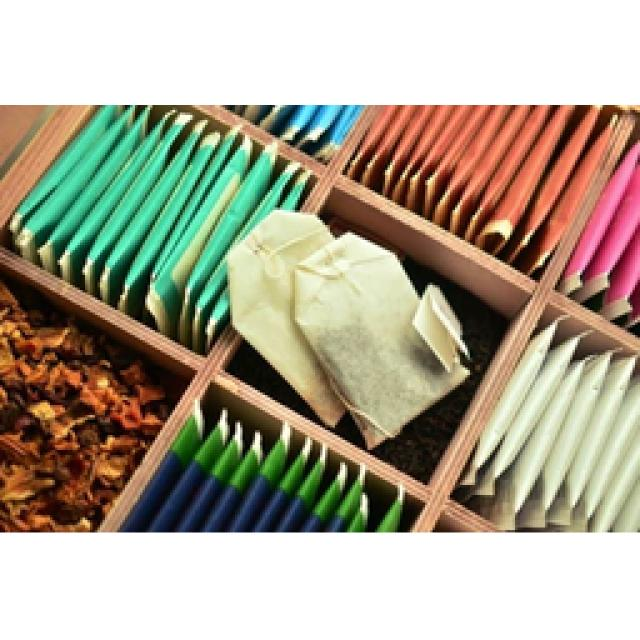tea-bags: (10, 105, 470, 438), (340, 105, 620, 278), (455, 315, 638, 530), (125, 400, 407, 533), (560, 140, 638, 328)
